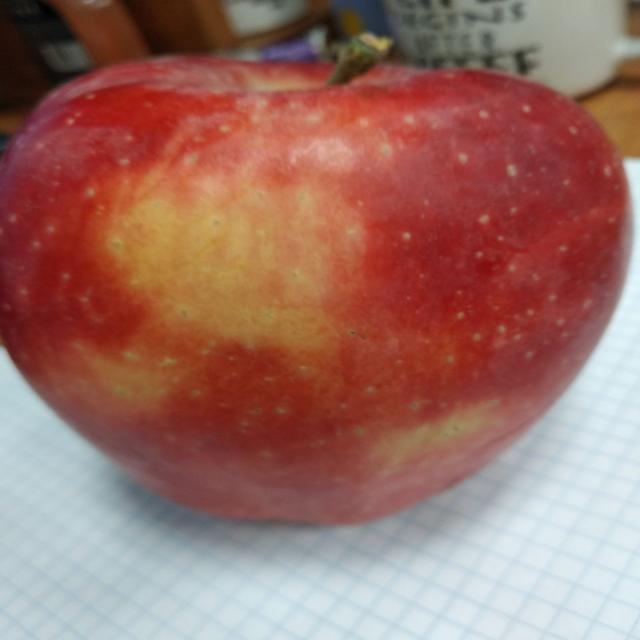Fresh Apple: (15, 60, 615, 527)
